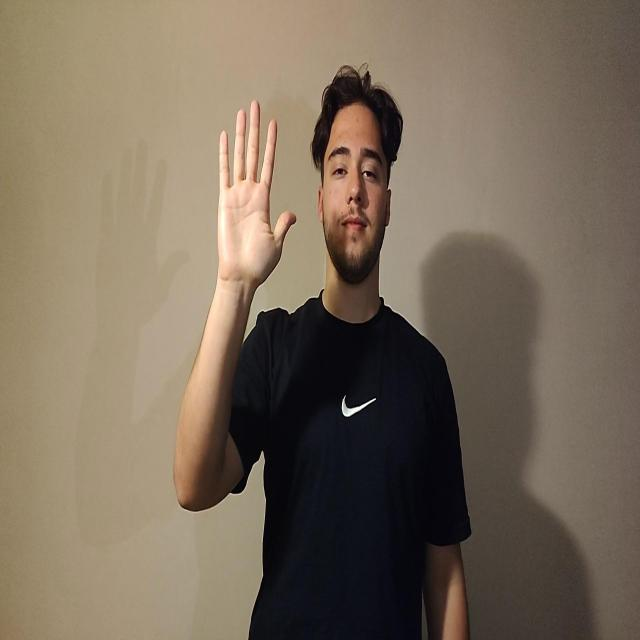hello: (216, 98, 297, 290)
